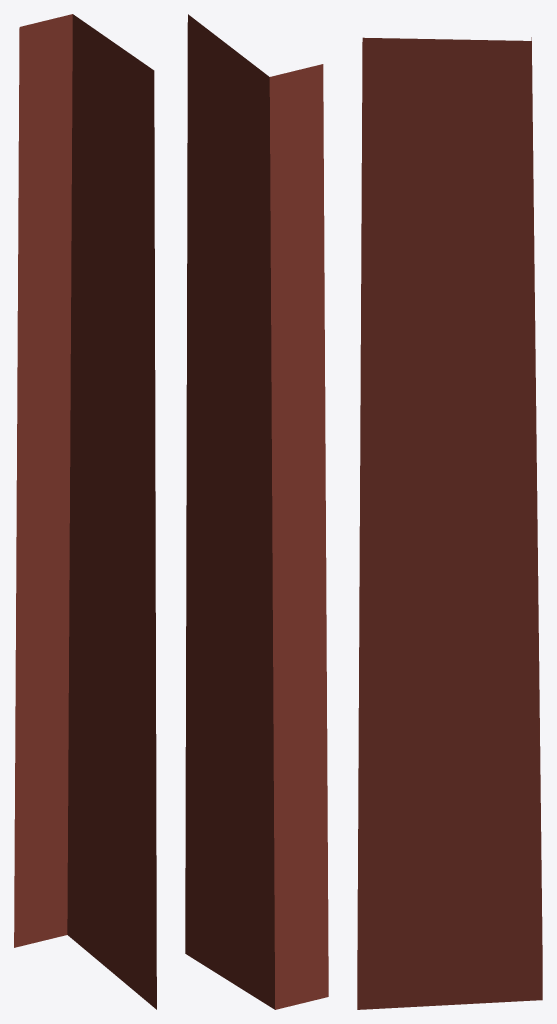
The model's file is BeamGroundBack.fbx.
The picture shows the model from 3 angles, left to right: view 1: azimuth 30°, elevation 25°; view 2: azimuth 210°, elevation 25°; view 3: azimuth 270°, elevation 25°; orthographic projection. The views are drawn at different scales.
Parts seen in each view (by area): view 1: BeamGroundBack; view 2: BeamGroundBack; view 3: BeamGroundBack.
Part boxes in pixels (left/top/right/bottom): BeamGroundBack: left=14, top=14, right=156, bottom=1009; BeamGroundBack: left=185, top=14, right=328, bottom=1009; BeamGroundBack: left=357, top=37, right=542, bottom=1009.
Bounding box in the file's own units: 6.94 × 117 × 20.18.
